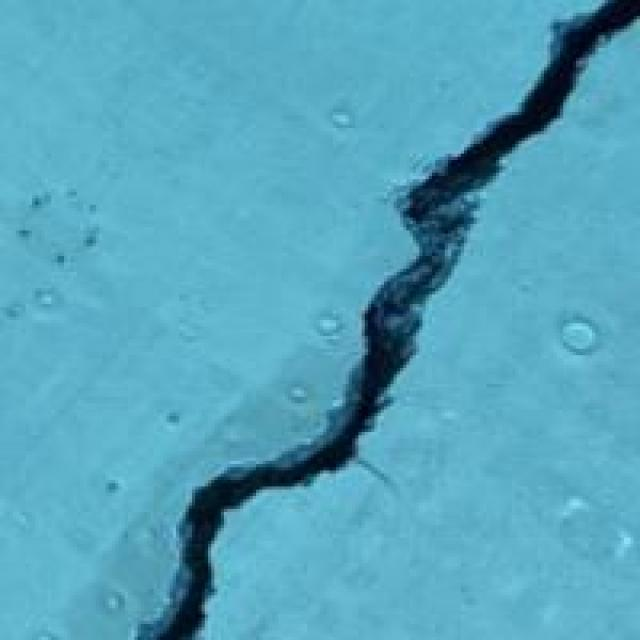crack: (121, 0, 636, 637)
